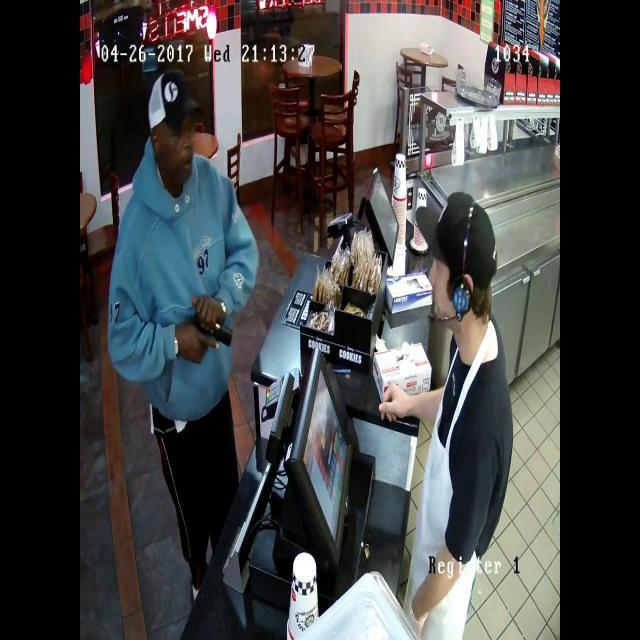weapon: (180, 307, 240, 357)
